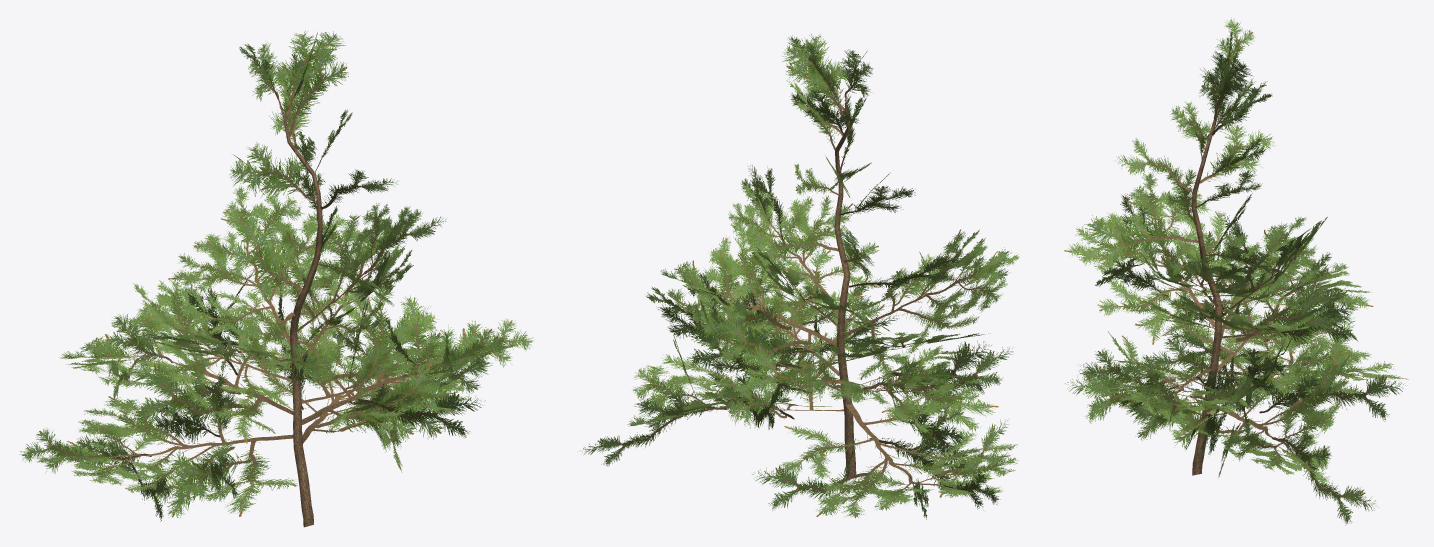
The picture shows the model from 3 angles, left to right: view 1: azimuth 30°, elevation 25°; view 2: azimuth 150°, elevation 25°; view 3: azimuth 270°, elevation 25°; orthographic projection. The views are drawn at different scales.
Visible parts, largest first — view 1: Pine_sapling_1_LOD1_Bark_Mat_0; view 2: Pine_sapling_1_LOD1_Bark_Mat_0; view 3: Pine_sapling_1_LOD1_Bark_Mat_0.
Part boxes in pixels (bbox=[...]): Pine_sapling_1_LOD1_Bark_Mat_0: bbox=[19, 30, 533, 527]; Pine_sapling_1_LOD1_Bark_Mat_0: bbox=[582, 34, 1019, 519]; Pine_sapling_1_LOD1_Bark_Mat_0: bbox=[1064, 17, 1408, 525].
Size of the model in its own units: 1.49 by 1.54 by 1.13.
